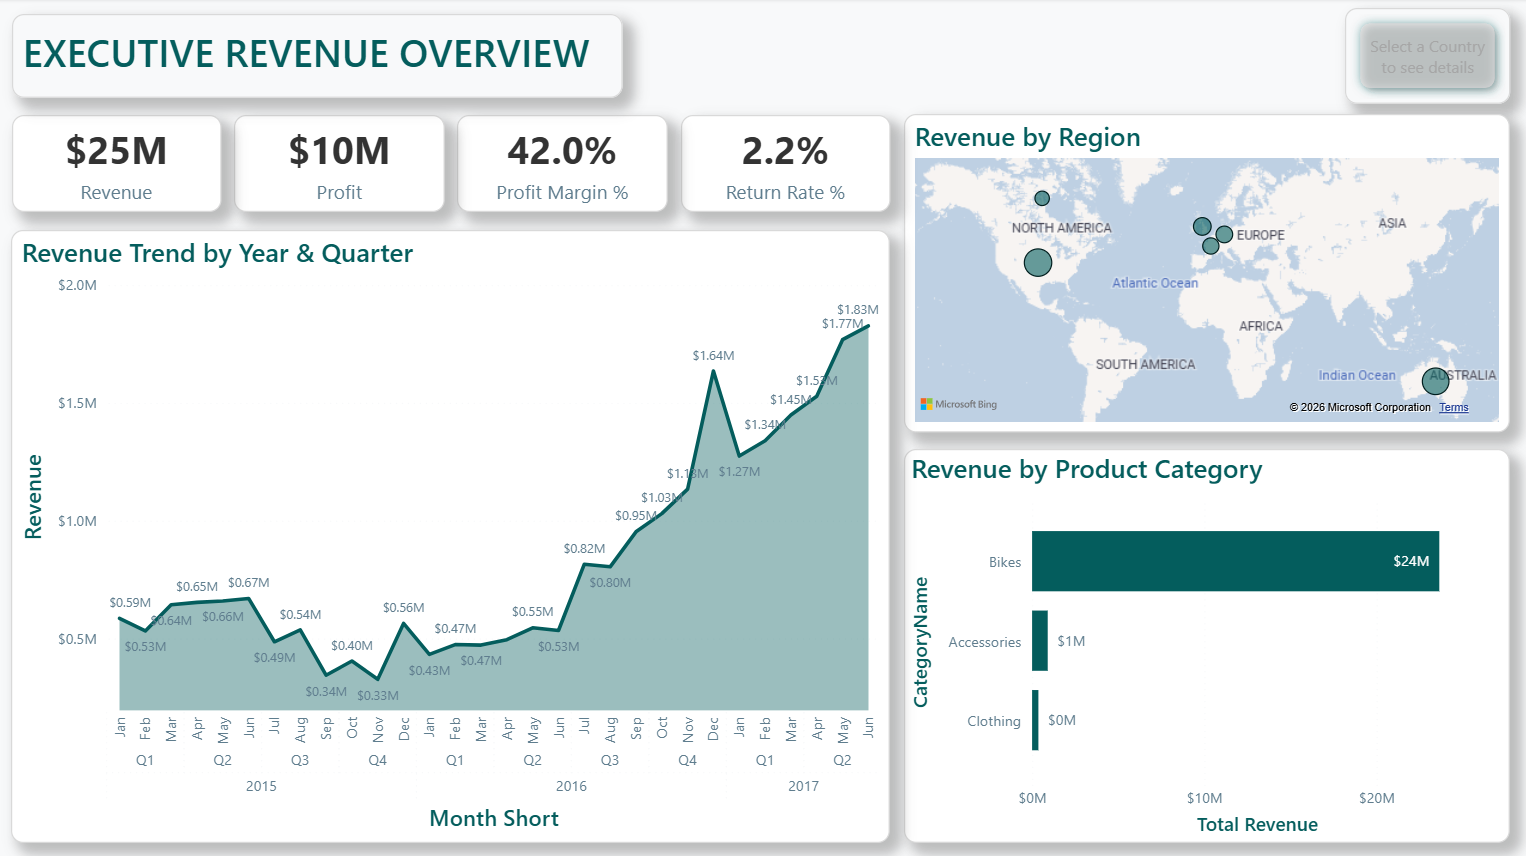

The dashboard page shown, as its layout file describes it:
{"tool":"powerbi","page":{"name":"Executive Overview","canvas":[1280,720],"ordinal":0},"visuals":[{"type":"card","title":"Card_Return Rate","fields":{"Values":["_AllMeasures.Return Rate %"]},"box":[571,97.4,174.5,81],"z":1500,"group":"g1"},{"type":"card","title":"Card_Profit Margin","fields":{"Values":["_AllMeasures.Profit Margin %"]},"box":[384.3,97.4,175.9,81],"z":1750,"group":"g1"},{"type":"card","title":"Card_Profit","fields":{"Values":["_AllMeasures.Total Profit"]},"box":[197.6,97.4,175.9,81],"z":1875,"group":"g1"},{"type":"card","title":"Card_Revenue","fields":{"Values":["_AllMeasures.Total Revenue"]},"box":[12.2,97.4,174.5,81],"z":2000,"group":"g1"},{"type":"actionButton","title":"Button_Drill Through","box":[1125.8,8.1,138,79.8],"z":2500},{"type":"map","title":"Revenue by Region","fields":{"Category":["Dim_Territories.Country"],"Size":["_AllMeasures.Total Revenue"]},"box":[757.9,97.2,505.6,265.7],"z":3000},{"type":"clusteredBarChart","title":"Revenue by Product Category","fields":{"Y":["_AllMeasures.Total Revenue"],"Category":["Dim_Products.Product Hierarchy.CategoryName","Dim_Products.Product Hierarchy.SubcategoryName","Dim_Products.Product Hierarchy.ProductName"]},"box":[757.9,376.3,505.6,329],"z":3500},{"type":"group","id":"g1","title":"Cards","box":[12.2,97.4,733.4,81],"z":3750},{"type":"areaChart","title":"Revenue Trend by Year & Quarter","fields":{"Category":["DateQuery.Date Hierarchy.Year","DateQuery.Date Hierarchy.Quarter","DateQuery.Date Hierarchy.Month Short"],"Y":["_AllMeasures.Total Revenue"]},"box":[11.7,193.4,733.8,512.2],"z":4000},{"type":"textbox","title":"Header","box":[12.4,13.4,509.7,70.3],"z":5500}]}

Visuals, with their boxes in screenshot pixels (x1, y1, x2, y2), scaled from the page's 1280x720 canvas onto the 1526x856 screenshot:
"Card_Return Rate" card: [681,116,889,212]
"Card_Profit Margin" card: [458,116,668,212]
"Card_Profit" card: [236,116,445,212]
"Card_Revenue" card: [15,116,223,212]
"Button_Drill Through" actionButton: [1342,10,1507,105]
"Revenue by Region" map: [904,116,1506,431]
"Revenue by Product Category" clusteredBarChart: [904,447,1506,839]
"Cards" group: [15,116,889,212]
"Revenue Trend by Year & Quarter" areaChart: [14,230,889,839]
"Header" textbox: [15,16,622,100]
